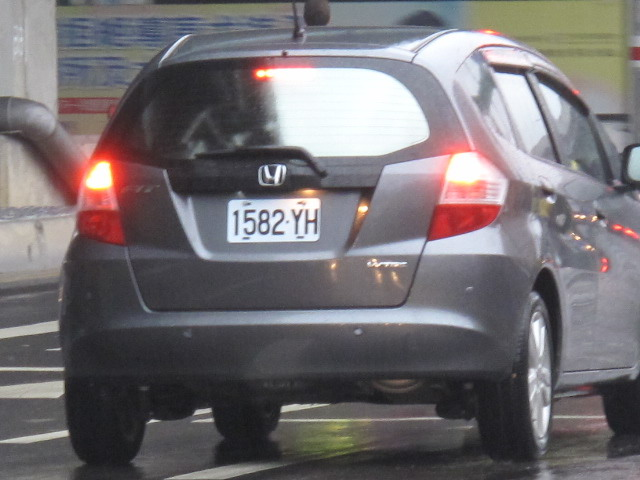plate: (223, 194, 323, 244)
